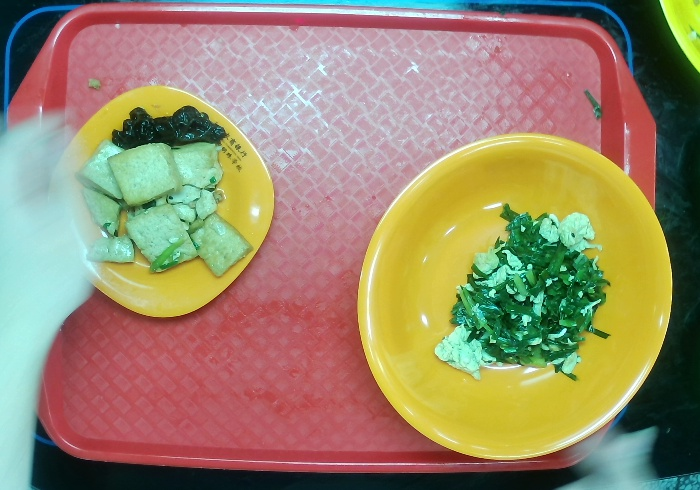YKMZ-Ju_Se_Fang_Die: (48, 82, 278, 325)
YKMZ-Ju_Se_Tang_Wan: (353, 123, 677, 466)
